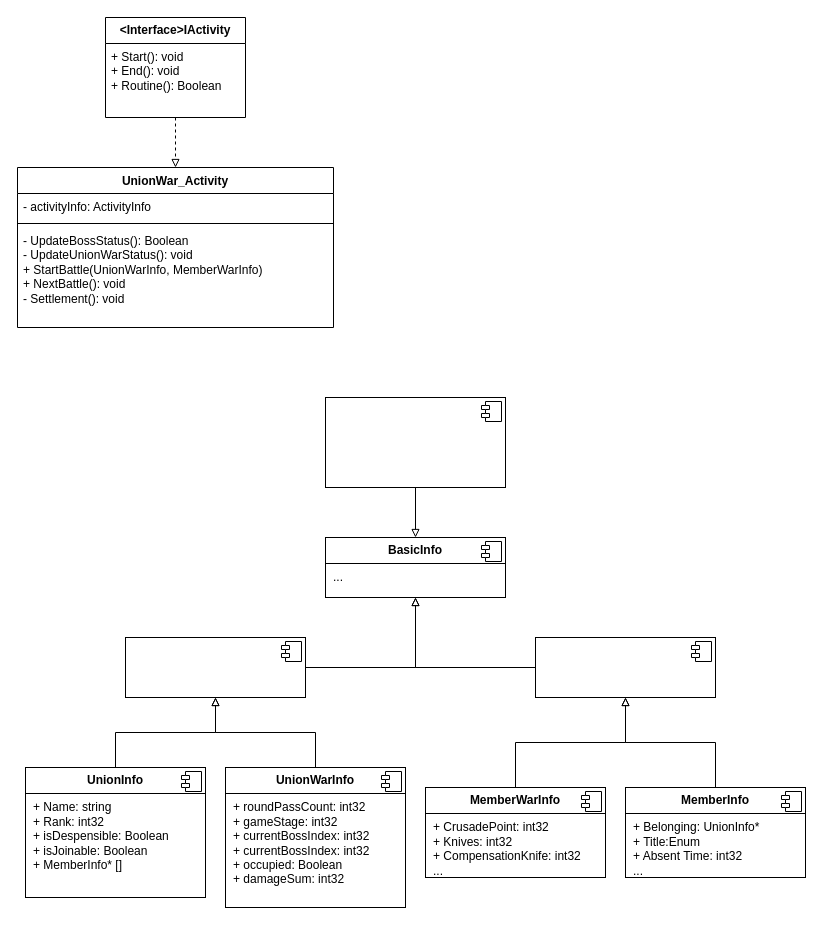
Image size: 823x925. Some labels were removed from this diagram. Here are the shapes that lost their labels. From the top down, the centre of each, then its label:
At (415,442): "ActivityInfo + StartDate + EndDate + Rules".
At (215,667): "BasicUnionInfo ...".
At (625,667): "BasicAvatarInfo ...".
